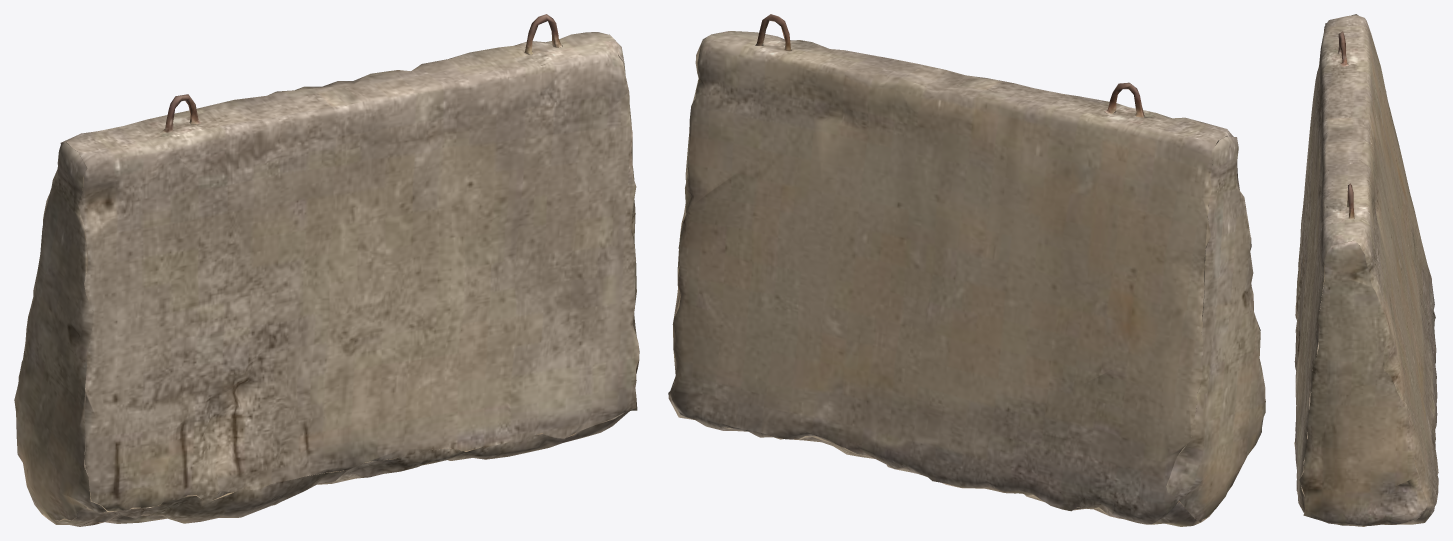
The model's file is concrete_road_barrier_02.glb.
3 renders of one model, left to right at view 1: azimuth 30°, elevation 25°; view 2: azimuth 150°, elevation 25°; view 3: azimuth 270°, elevation 25°, orthographic. The views are drawn at different scales.
Parts seen in each view (by area): view 1: concrete_road_barrier_02; view 2: concrete_road_barrier_02; view 3: concrete_road_barrier_02.
Part boxes in pixels (left/top/right/bottom): concrete_road_barrier_02: left=14, top=14, right=639, bottom=526; concrete_road_barrier_02: left=668, top=14, right=1265, bottom=526; concrete_road_barrier_02: left=1294, top=14, right=1438, bottom=526.
Size of the model in its own units: 1.56 by 1.11 by 0.4401.
Materials: 1 (1 with a texture image).
